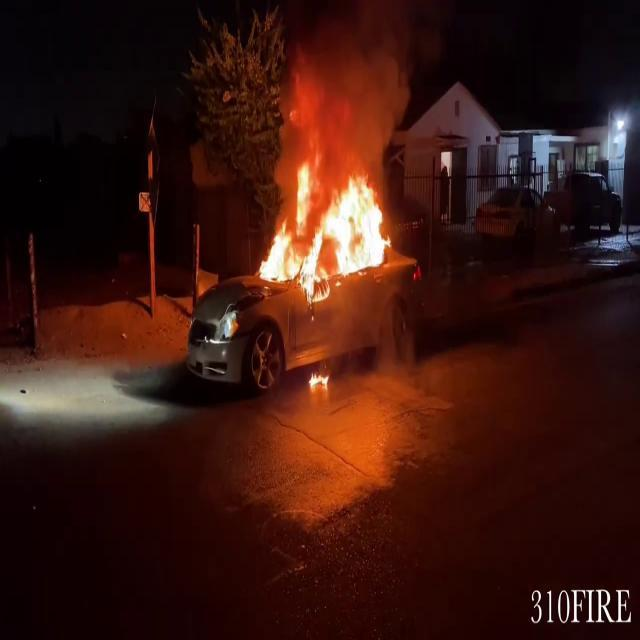Fire: (254, 138, 398, 296), (305, 364, 331, 395)
Smoke: (274, 0, 416, 158)
